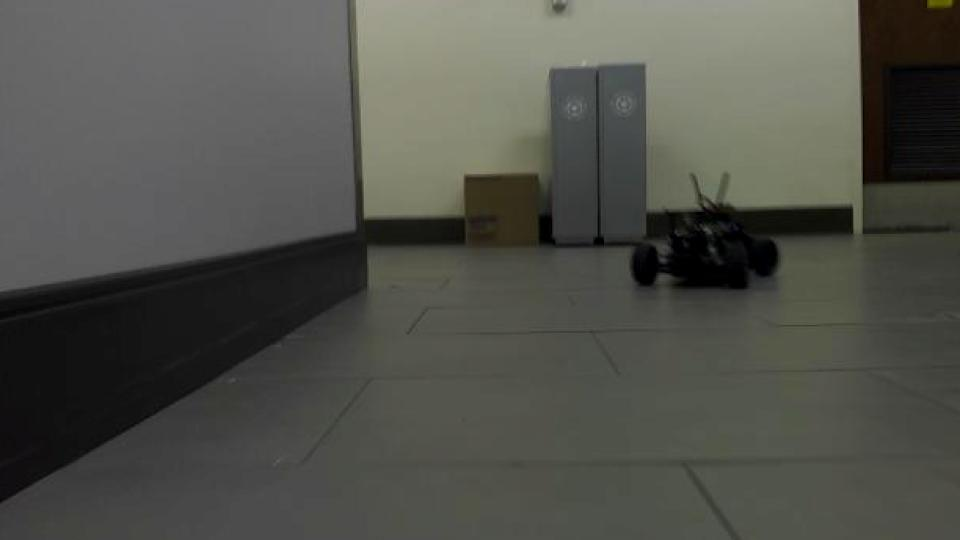car: (628, 168, 785, 292)
